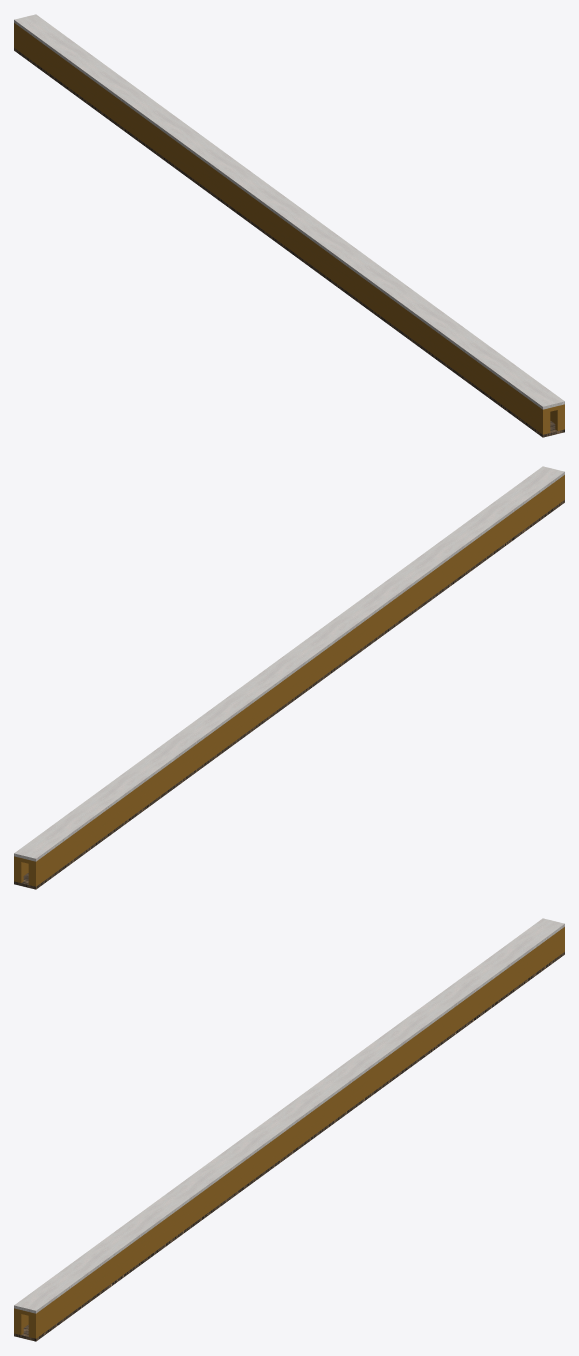
Rendered from Level_8.glb.
3 renders of one model, top to bottom at view 1: azimuth 30°, elevation 25°; view 2: azimuth 150°, elevation 25°; view 3: azimuth 330°, elevation 25°, orthographic.
Parts seen in each view (by area): view 1: Layer:2 corridor_wall, Layer:3 ceiling, Layer:1 wood_floor; view 2: Layer:2 corridor_wall, Layer:3 ceiling, Layer:1 wood_floor; view 3: Layer:2 corridor_wall, Layer:3 ceiling, Layer:1 wood_floor.
Boxes of the visible parts, x1=… form: Layer:2 corridor_wall: x1=14, y1=23, x2=564, y2=434; Layer:3 ceiling: x1=14, y1=14, x2=564, y2=409; Layer:1 wood_floor: x1=14, y1=48, x2=564, y2=437; Layer:2 corridor_wall: x1=14, y1=475, x2=564, y2=886; Layer:3 ceiling: x1=14, y1=466, x2=564, y2=861; Layer:1 wood_floor: x1=14, y1=500, x2=564, y2=889; Layer:2 corridor_wall: x1=14, y1=927, x2=564, y2=1338; Layer:3 ceiling: x1=14, y1=918, x2=564, y2=1313; Layer:1 wood_floor: x1=14, y1=952, x2=564, y2=1341.
Bounding box in the file's own units: 2.4 × 3.2 × 99.37.
3 materials, 3 textured.
